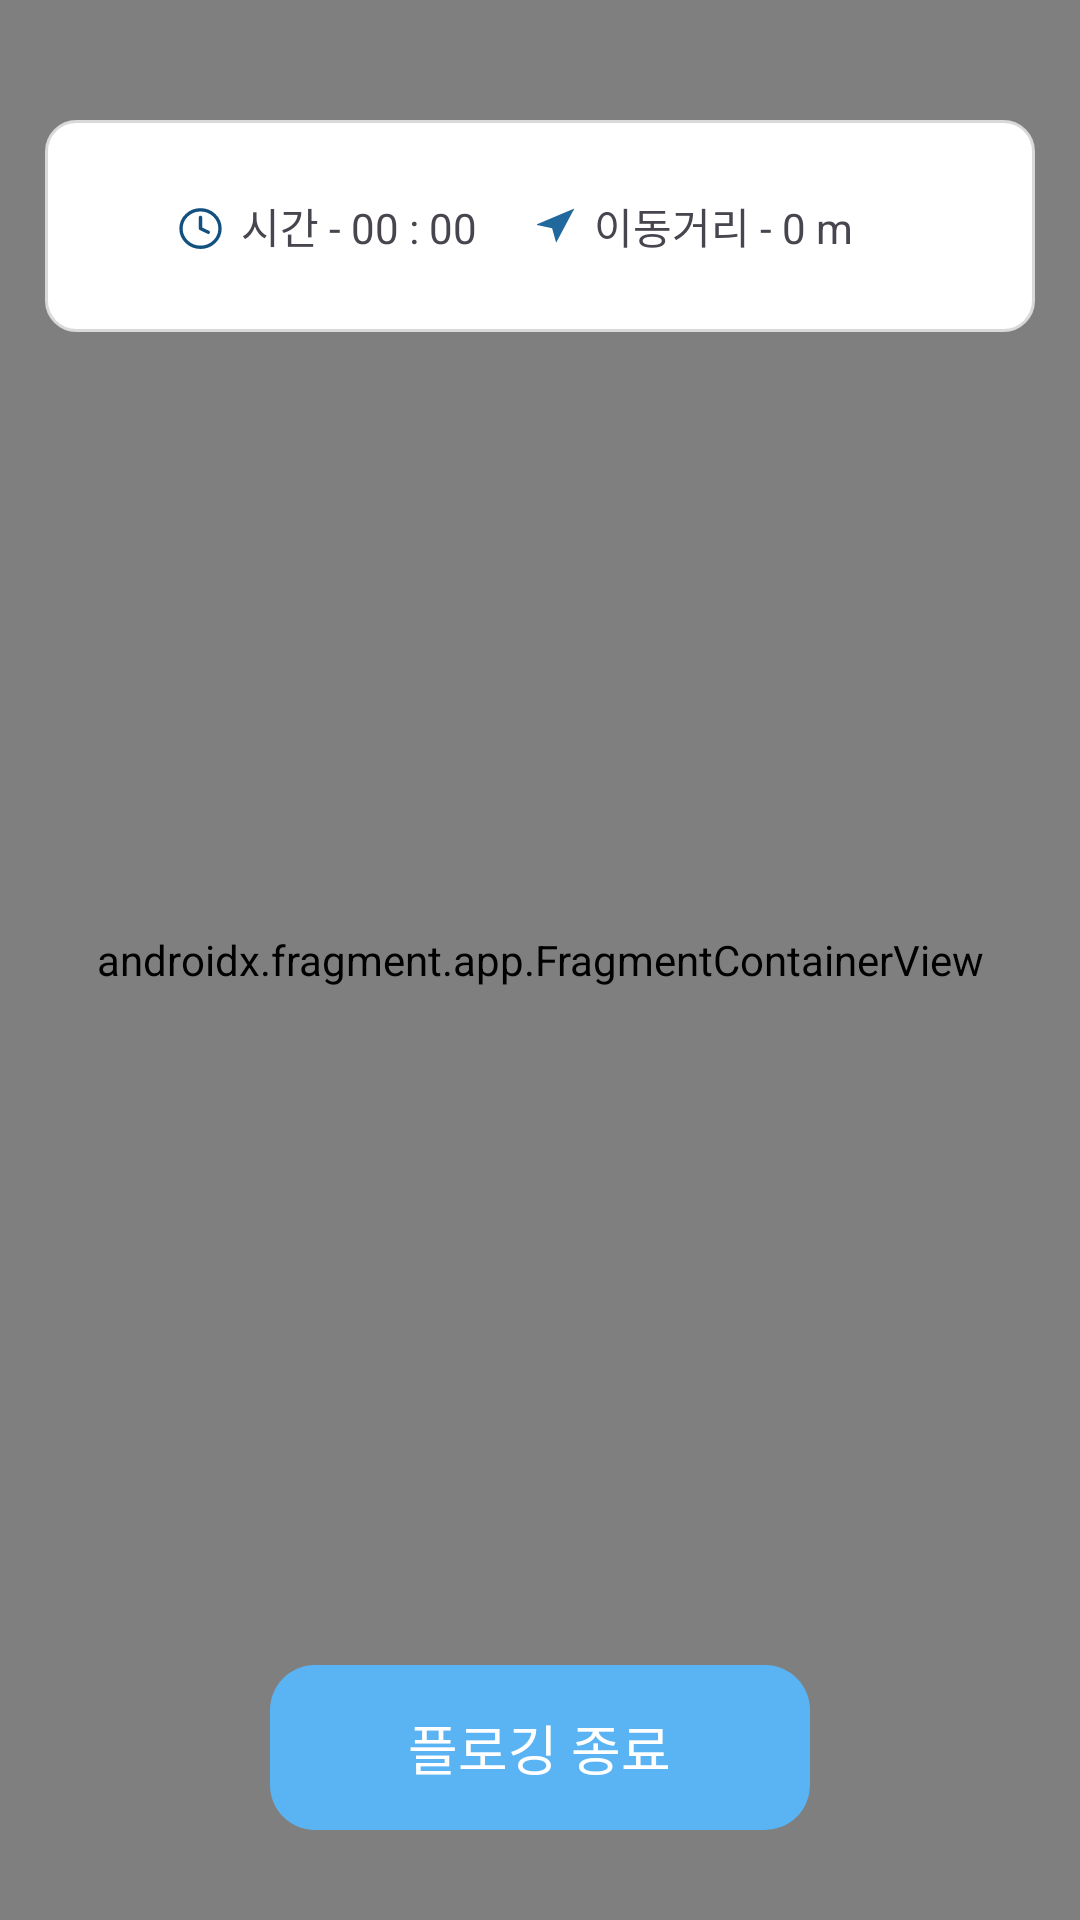

Named icons in this screenshot (1080 x 1920) and their centers, (x=x, y=y):
distance: (x=555, y=225)
time: (x=200, y=228)
